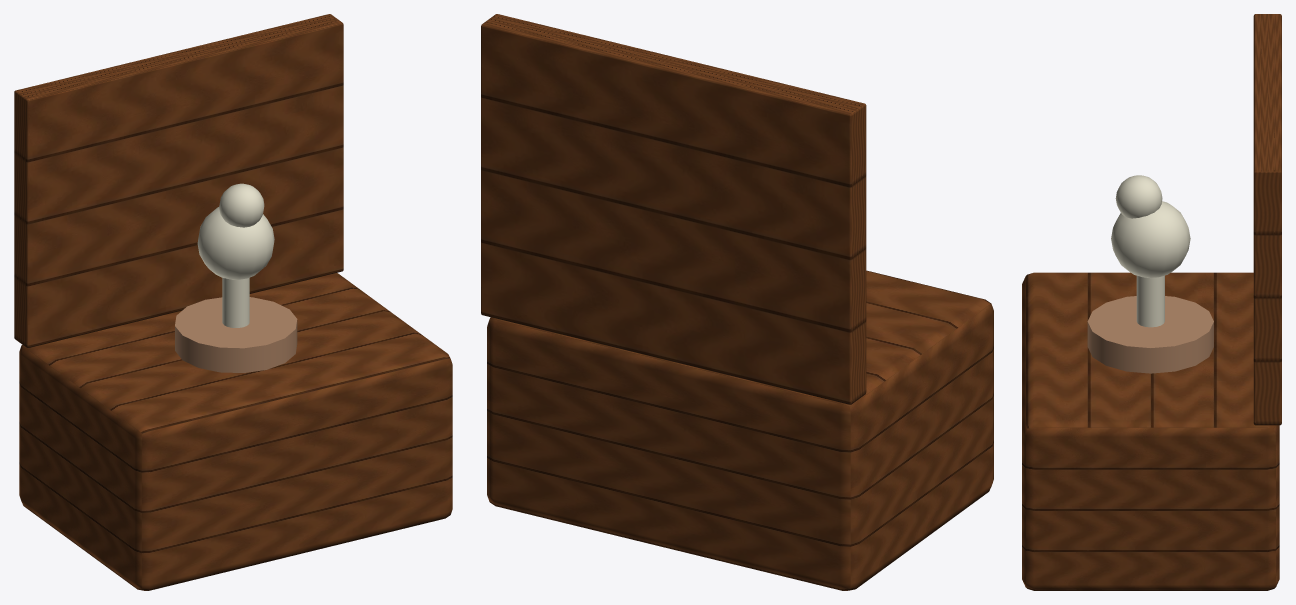
File: scavengers-loot-library-music-box-b7dc763b__2646.glb
3 views of the same model, side by side, from view 1: azimuth 30°, elevation 25°; view 2: azimuth 150°, elevation 25°; view 3: azimuth 270°, elevation 25° (orthographic). The views are drawn at different scales.
Parts seen in each view (by area): view 1: music-box, lid/wood; view 2: lid/wood, music-box; view 3: music-box, lid/wood.
Part boxes in pixels (x1=…): music-box: x1=19, y1=183, x2=452, y2=590; lid/wood: x1=14, y1=14, x2=343, y2=347; lid/wood: x1=481, y1=14, x2=866, y2=404; music-box: x1=487, y1=270, x2=993, y2=590; music-box: x1=1022, y1=175, x2=1279, y2=590; lid/wood: x1=1253, y1=14, x2=1281, y2=425.
Size of the model in its own units: 0.16 by 0.2 by 0.111.
3 materials, 1 textured.
